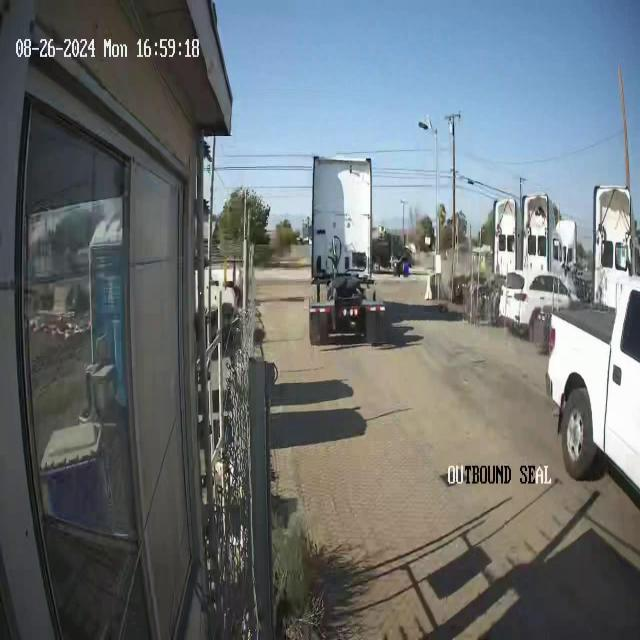BOBTAIL: (310, 155, 388, 349)
